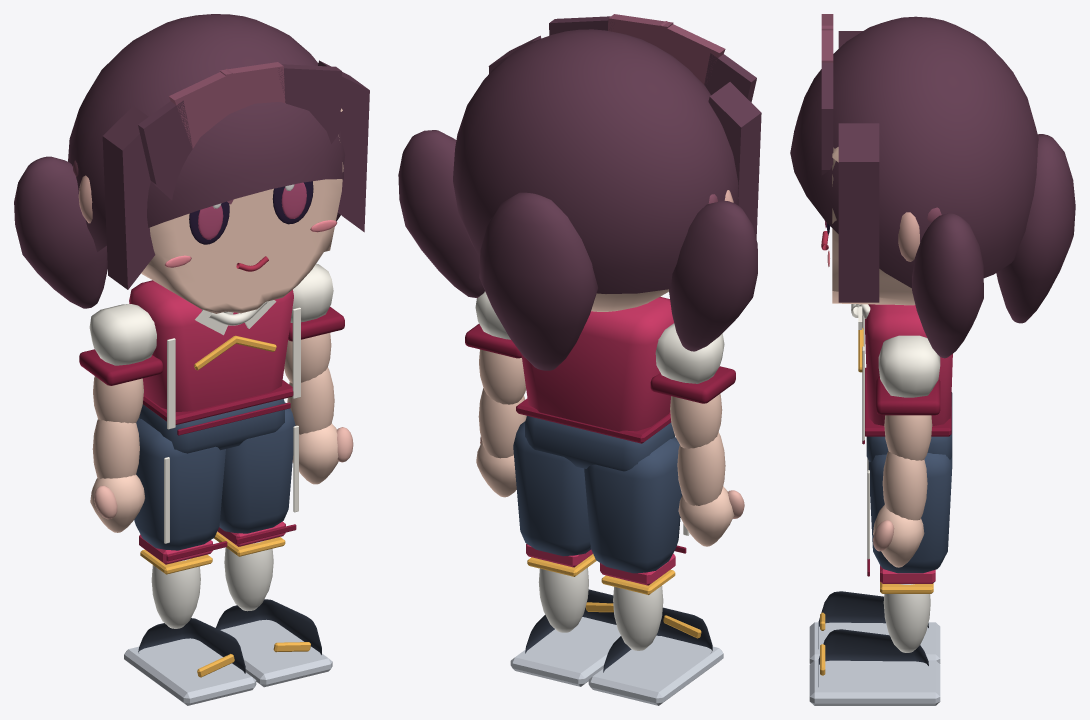
Rendered from chibi-master-v2.glb.
The picture shows the model from 3 angles, left to right: view 1: azimuth 30°, elevation 25°; view 2: azimuth 150°, elevation 25°; view 3: azimuth 270°, elevation 25°; orthographic projection. The views are drawn at different scales.
Parts seen in each view (by area): view 1: hair_cap, head_mesh, torso_mesh, hair_style_twintail_tail_l, thigh_mesh_l, hair_style_bob_side_l, thigh_mesh_r, foot_mesh_l_sole, foot_mesh_r_sole, hair_style_bob_side_r, waist_mesh, hair_bang_1 (+29 smaller); view 2: hair_cap, hair_style_ponytail_tail, torso_mesh, thigh_mesh_l, hair_style_twintail_tail_l, hair_style_twintail_tail_r, thigh_mesh_r, foot_mesh_l_sole, foot_mesh_r_sole, waist_mesh, hair_style_bob_side_l, forearm_mesh_l (+23 smaller); view 3: hair_cap, hair_style_ponytail_tail, hair_style_twintail_tail_r, hair_style_bob_side_r, foot_mesh_r_sole, thigh_mesh_r, torso_mesh, jersey_sleeve_r, forearm_mesh_r, foot_mesh_r, shin_mesh_r, upper_arm_mesh_r (+13 smaller).
Boxes of the visible parts, x1,y1,x2,y2 form: hair_cap: (68, 14, 345, 251); head_mesh: (141, 108, 343, 313); torso_mesh: (129, 280, 293, 411); hair_style_twintail_tail_l: (14, 156, 107, 308); thigh_mesh_l: (134, 417, 225, 550); hair_style_bob_side_l: (102, 106, 155, 289); thigh_mesh_r: (219, 402, 295, 533); foot_mesh_l_sole: (124, 638, 256, 705); foot_mesh_r_sole: (220, 619, 332, 687); hair_style_bob_side_r: (318, 60, 369, 232); waist_mesh: (139, 399, 284, 453); hair_bang_1: (138, 100, 192, 199); hair_cap: (453, 29, 738, 293); hair_style_ponytail_tail: (479, 192, 597, 370); torso_mesh: (521, 296, 673, 431); thigh_mesh_l: (584, 437, 682, 573); hair_style_twintail_tail_l: (669, 200, 757, 351); hair_style_twintail_tail_r: (398, 130, 484, 298); thigh_mesh_r: (513, 421, 590, 556); foot_mesh_l_sole: (588, 635, 723, 705); foot_mesh_r_sole: (510, 617, 620, 686); waist_mesh: (525, 416, 674, 471); hair_style_bob_side_l: (708, 82, 761, 238); forearm_mesh_l: (677, 432, 725, 505); hair_cap: (790, 16, 1038, 288); hair_style_ponytail_tail: (996, 134, 1075, 323); hair_style_twintail_tail_r: (912, 213, 983, 358); hair_style_bob_side_r: (838, 123, 879, 302); foot_mesh_r_sole: (809, 660, 940, 705); thigh_mesh_r: (868, 453, 952, 573); torso_mesh: (865, 304, 952, 426); jersey_sleeve_r: (878, 335, 940, 397); forearm_mesh_r: (882, 451, 927, 520); foot_mesh_r: (818, 629, 928, 686); shin_mesh_r: (883, 584, 930, 652); upper_arm_mesh_r: (884, 415, 932, 460).
Bounding box in the file's own units: 1.9 × 3.3 × 1.33.
